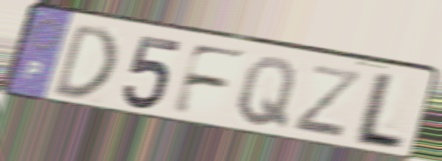5: (118, 32, 186, 112)
D: (49, 20, 120, 101)
F: (167, 41, 251, 118)
L: (348, 70, 409, 154)
Q: (234, 55, 300, 132)
Z: (290, 62, 365, 142)
